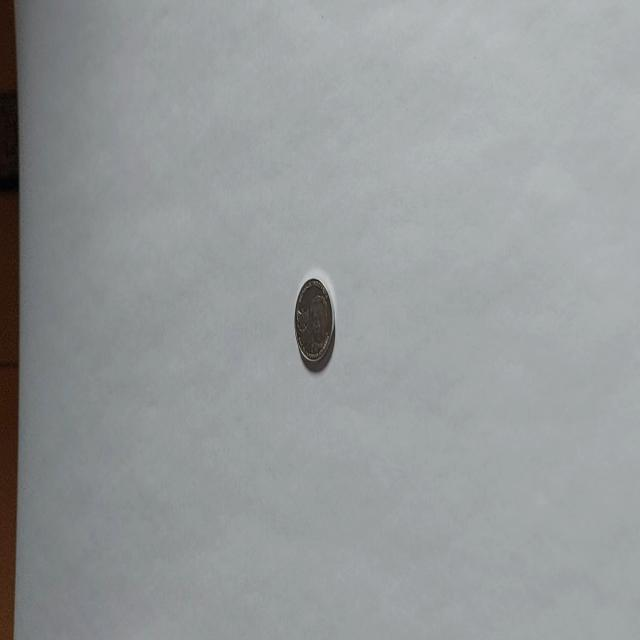seratus rupiah: (293, 276, 335, 370)
